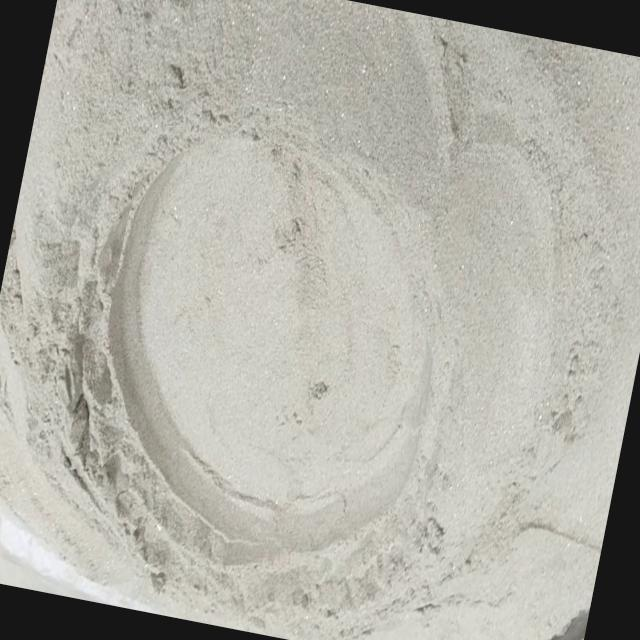C40: (107, 138, 433, 557)
